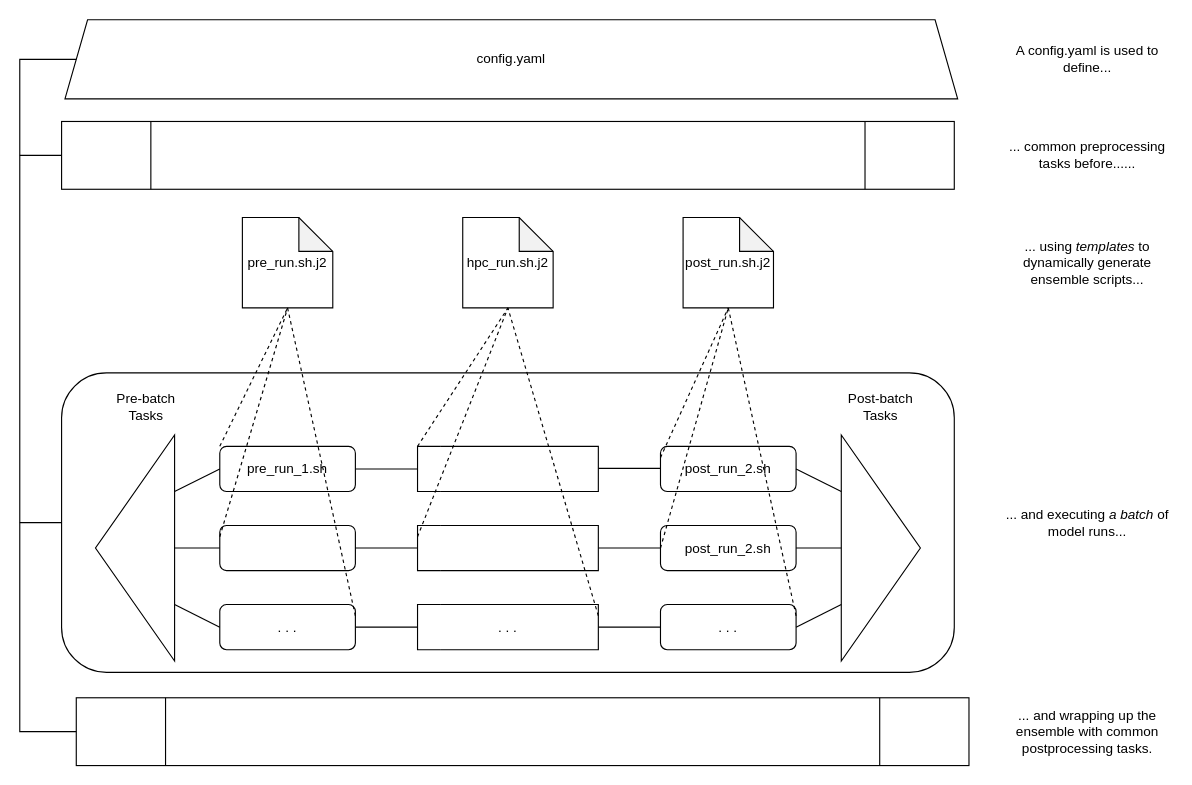
Image size: 1192x785. Some labels were removed from this diagram. The shapes that lost their labels are listed below. From the top down, each one's box as (x1, y1, x2, y2) in pixels, then its label:
(60, 120, 954, 189): Preprocessing Tasks
(416, 445, 598, 492): hpc_run_1.sh
(219, 524, 355, 571): pre_run_2.sh
(416, 524, 598, 571): hpc_run_2.sh
(75, 697, 969, 766): Postprocessing Tasks
